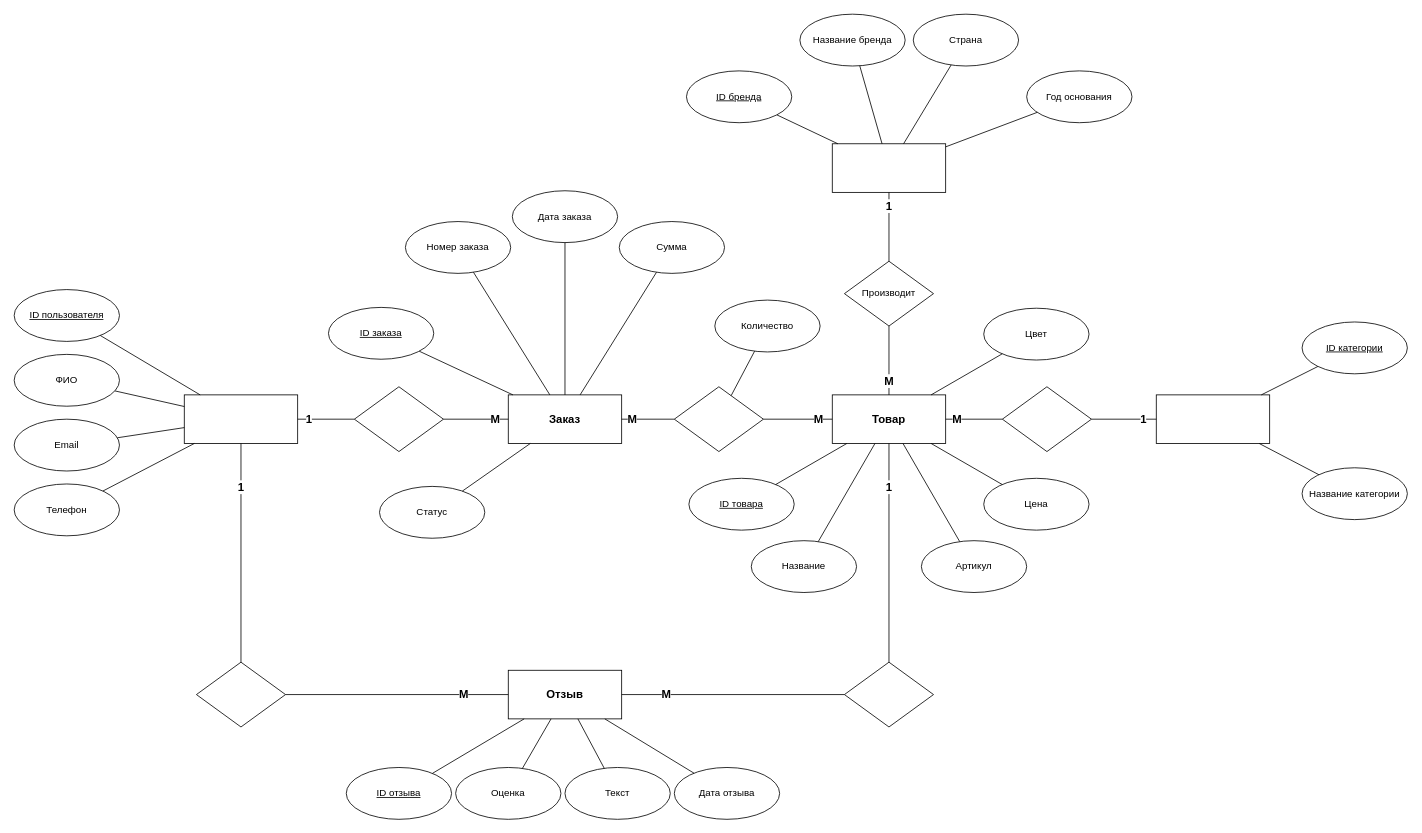
This 1422x833 diagram has some shape labels left out. Here are the shapes that lost their labels. From the top down, the box of each, then its label:
(831, 143, 946, 192): Бренд
(183, 394, 298, 443): Пользователь
(354, 386, 443, 452): Оформляет
(674, 386, 763, 452): Содержит
(1002, 386, 1091, 452): Относится
(1155, 394, 1270, 443): Категория
(196, 661, 286, 727): Оставляет
(844, 661, 934, 727): Имеет
